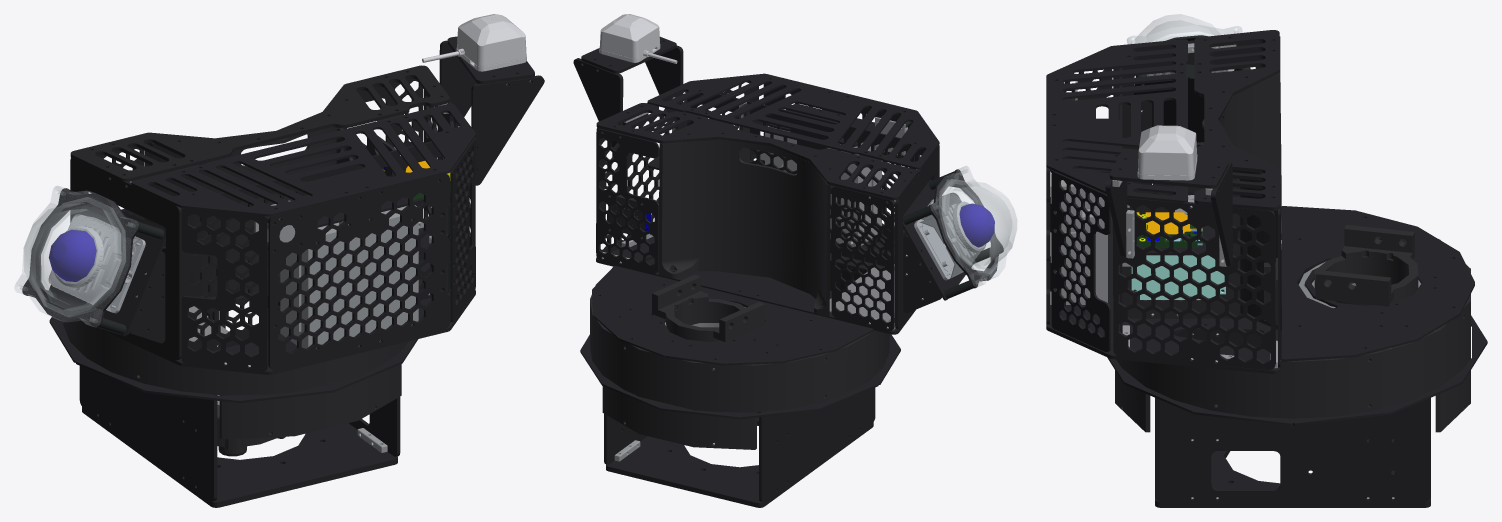
The model's file is gimbal_link.glb.
The picture shows the model from 3 angles, left to right: view 1: azimuth 30°, elevation 25°; view 2: azimuth 150°, elevation 25°; view 3: azimuth 270°, elevation 25°; orthographic projection. The views are drawn at different scales.
Parts seen in each view (by area): view 1: 弹仓3.21.0-1#180, 弹仓上板3.3.1011.21.0-1#177, 弹仓打印2.10.31-5#162, 弹仓上板3.3.10111.0-1#148, 云台侧支撑10.31-2#184, mid360保护罩1.0-1#90, nuc保护2.21.0-1#62, 云台底板10.31-1#156, nuc尺寸模型10.31-1#133, 雷达固定板3。31.0-1#181, 弹仓2.2。21.0-1#178, 弹仓打印3.26.4.11-1#170 (+18 smaller); view 2: 弹仓打印10.31-1#78, 弹仓打印2.10.31-5_1#169, 弹仓上板3.3.1011.21.0-1#177, 弹仓上板3.3.10111.0-1#148, 云台侧支撑10.31-2#184, 弹仓板11.7-1#187, 弹仓打印3.26.4.11-1#170, 云台底板10.31-1#156, 弹仓1.10.31-2#149, 弹仓11.7-1#185, 弹仓板11.7（2）-1#182, mid360保护罩1.0-1#90 (+22 smaller); view 3: 云台侧支撑（上转安装）10.31-1#166, 定位模块固定板31.0-1#60, 弹仓打印3.26.4.11-1_1#171, 弹仓上板3.3.1011.21.0-1#177, 弹仓板11.7（2）-1#182, 弹仓上板3.3.10111.0-1#148, 弹仓板11.7-1#187, nuc保护10171.0-1#81, 轴承固定1.10.1-1#134, 弹仓打印10.31-1#78, 弹仓板10.31-1#145, 弹仓打印2.10.31-5_1#169 (+20 smaller).
Boxes of the visible parts, <box> form: 弹仓3.21.0-1#180: <box>268,174,449,370</box>; 弹仓上板3.3.1011.21.0-1#177: <box>131,103,475,216</box>; 弹仓打印2.10.31-5#162: <box>219,343,401,439</box>; 弹仓上板3.3.10111.0-1#148: <box>70,65,449,181</box>; 云台侧支撑10.31-2#184: <box>79,366,217,501</box>; mid360保护罩1.0-1#90: <box>23,197,125,316</box>; nuc保护2.21.0-1#62: <box>181,208,267,371</box>; 云台底板10.31-1#156: <box>82,407,397,507</box>; nuc尺寸模型10.31-1#133: <box>280,206,418,348</box>; 雷达固定板3。31.0-1#181: <box>70,158,181,360</box>; 弹仓2.2。21.0-1#178: <box>181,141,467,350</box>; 弹仓打印3.26.4.11-1#170: <box>63,321,221,395</box>; 弹仓打印10.31-1#78: <box>658,139,834,317</box>; 弹仓打印2.10.31-5_1#169: <box>602,327,756,449</box>; 弹仓上板3.3.1011.21.0-1#177: <box>647,73,939,169</box>; 弹仓上板3.3.10111.0-1#148: <box>596,103,917,200</box>; 云台侧支撑10.31-2#184: <box>759,358,875,502</box>; 弹仓板11.7-1#187: <box>665,297,873,365</box>; 弹仓打印3.26.4.11-1#170: <box>755,330,889,412</box>; 云台底板10.31-1#156: <box>606,418,873,507</box>; 弹仓1.10.31-2#149: <box>831,186,894,330</box>; 弹仓11.7-1#185: <box>596,128,658,273</box>; 弹仓板11.7（2）-1#182: <box>592,266,743,357</box>; mid360保护罩1.0-1#90: <box>940,179,1017,274</box>; 云台侧支撑（上转安装）10.31-1#166: <box>1155,331,1430,502</box>; 定位模块固定板31.0-1#60: <box>1112,198,1275,369</box>; 弹仓打印3.26.4.11-1_1#171: <box>1145,330,1440,418</box>; 弹仓上板3.3.1011.21.0-1#177: <box>1046,39,1187,202</box>; 弹仓板11.7（2）-1#182: <box>1281,282,1474,361</box>; 弹仓上板3.3.10111.0-1#148: <box>1194,30,1279,210</box>; 弹仓板11.7-1#187: <box>1281,206,1474,283</box>; nuc保护10171.0-1#81: <box>1051,171,1110,351</box>; 轴承固定1.10.1-1#134: <box>1314,225,1418,306</box>; 弹仓打印10.31-1#78: <box>1202,72,1281,331</box>; 弹仓板10.31-1#145: <box>1046,214,1280,374</box>; 弹仓打印2.10.31-5_1#169: <box>1435,240,1470,432</box>.
Size of the model in its own units: 0.4724 by 0.3754 by 0.3515.
